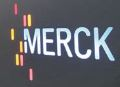Merck: (9, 2, 117, 81)
